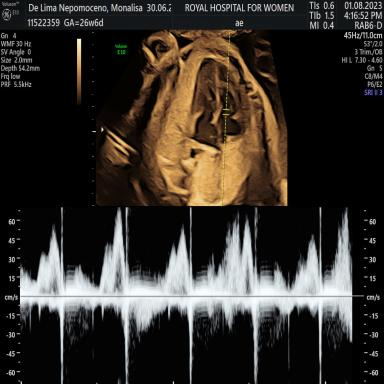Ultrasound-Waves: (27, 207, 353, 384)
